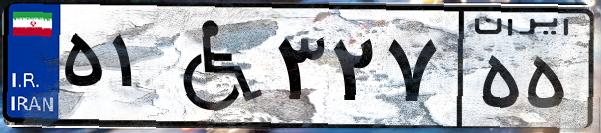1: (110, 28, 158, 98)
2: (330, 28, 385, 110)
3: (270, 28, 330, 110)
5: (57, 26, 110, 100), (475, 38, 525, 113), (525, 38, 570, 115)
7: (385, 28, 445, 110)
ژ (معلولین و جانبازان): (158, 12, 270, 120)
